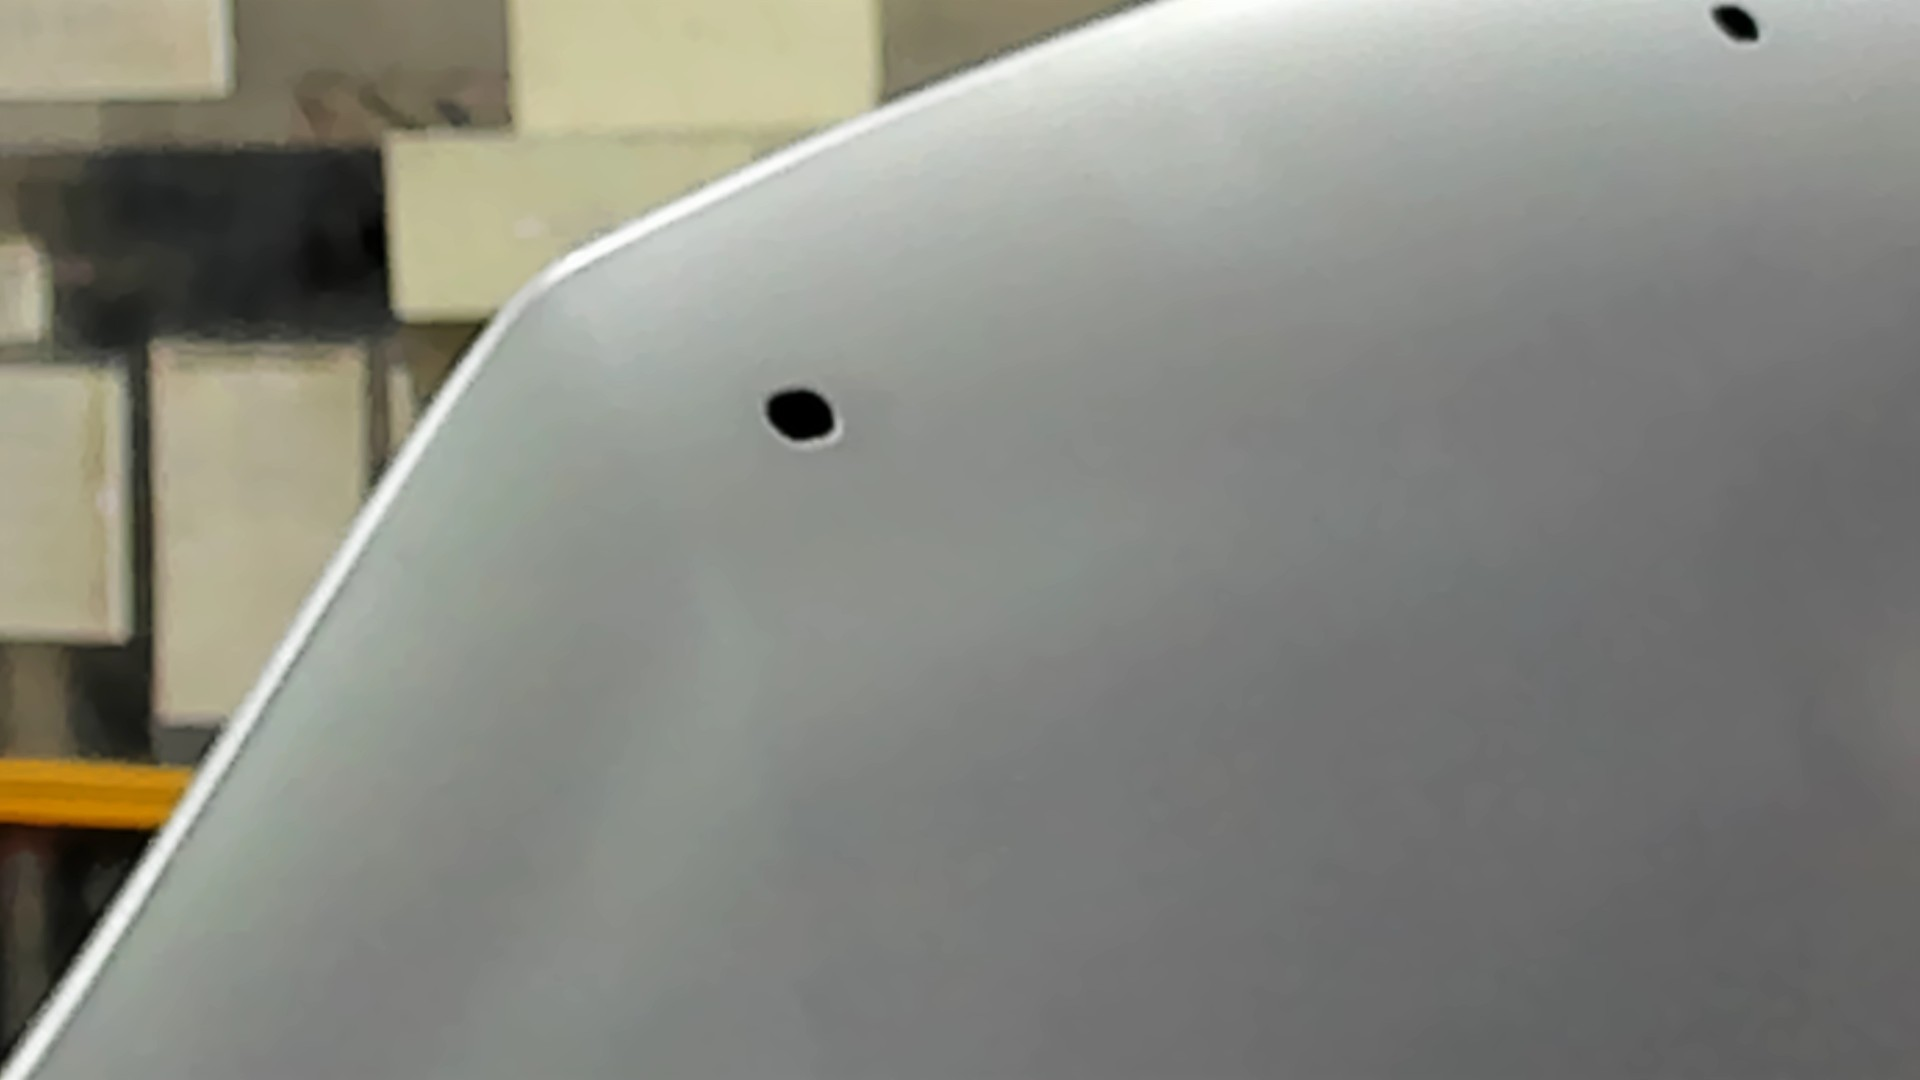amorfo: (745, 377, 855, 456), (1700, 1, 1774, 51)
capo: (938, 135, 1920, 1080)
